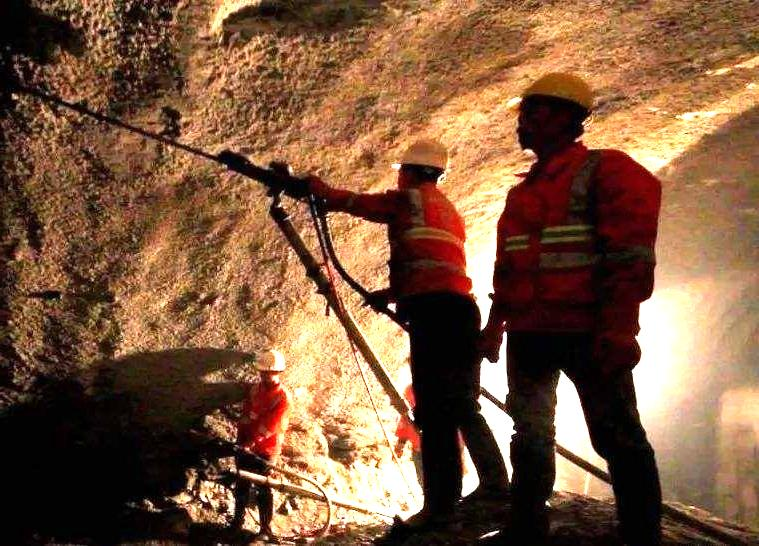helmet: (516, 72, 593, 151), (393, 139, 448, 192), (256, 349, 286, 383)
